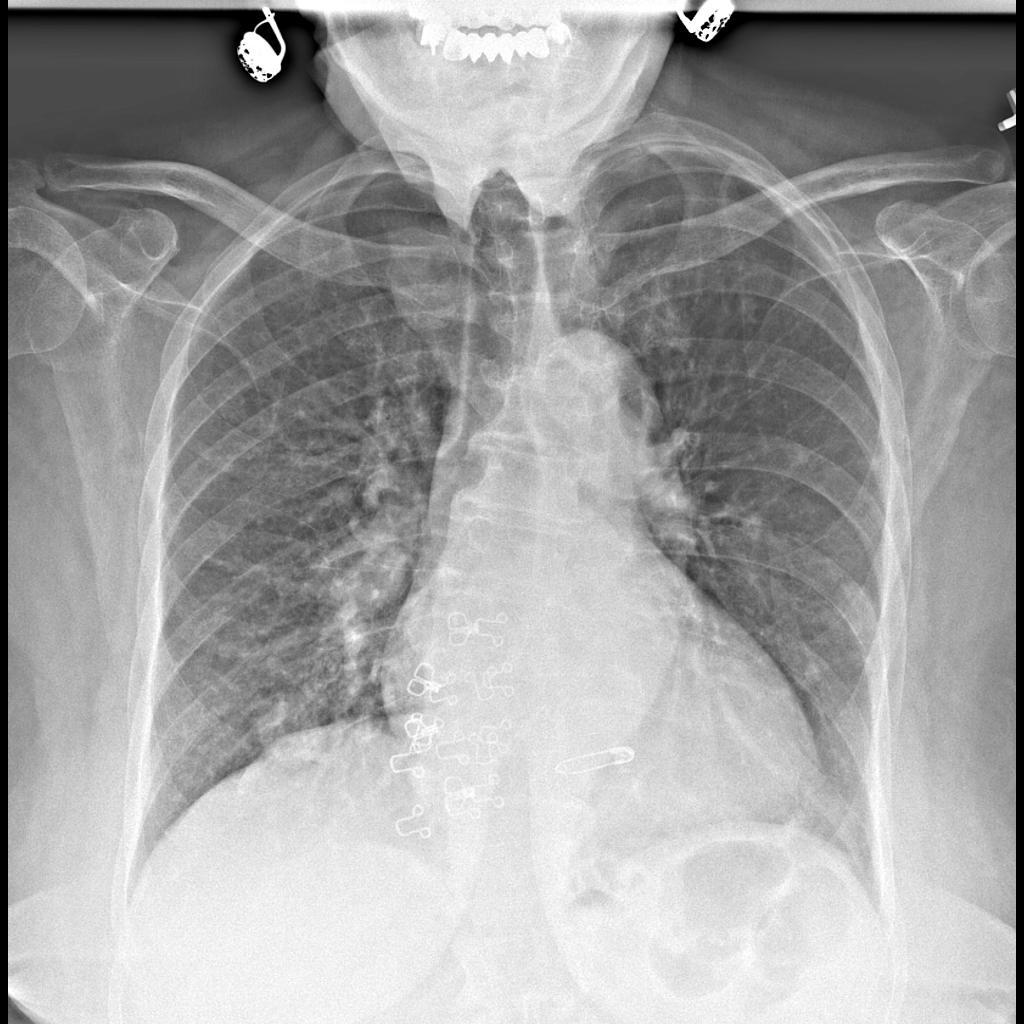Nodule: (250, 693, 334, 777)
